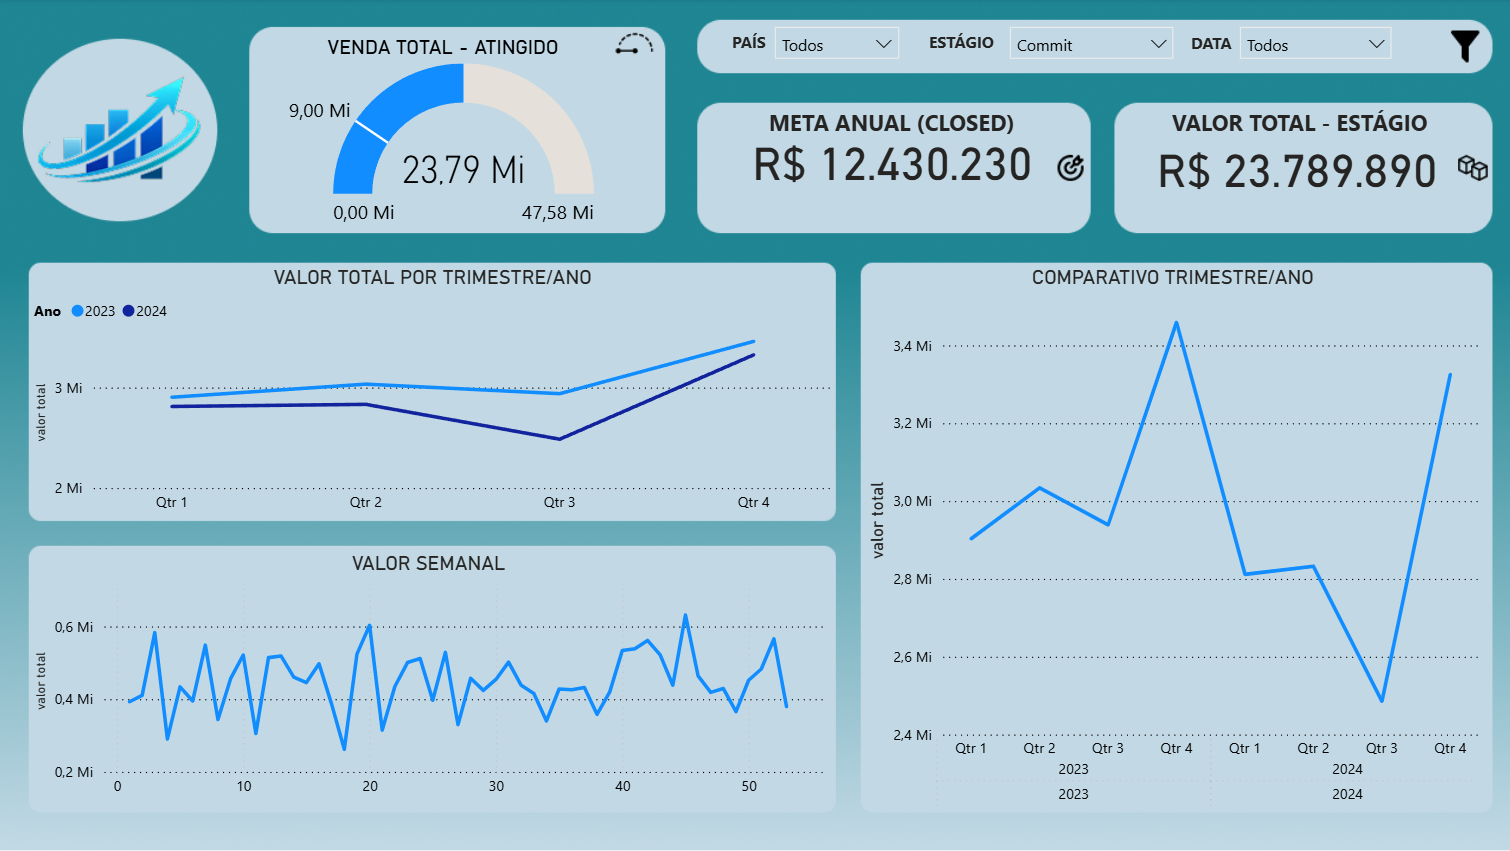

What the dashboard file says about the page in this screenshot:
{"tool":"powerbi","page":{"name":"Visão Comercial","canvas":[1280,720],"ordinal":0},"visuals":[{"type":"lineChart","title":"VALOR SEMANAL","fields":{"Category":["Calendario.Semana"],"Y":["OPORTUNIDADES.valor total"]},"box":[25.5,465.5,676.4,216.4],"z":0},{"type":"slicer","fields":{"Values":["Calendario.Date.Variation.Hierarquia de datas.Ano","Calendario.Date.Variation.Hierarquia de datas.Mês"]},"box":[1038.2,13.6,148.2,72.7],"z":1000},{"type":"lineChart","title":"COMPARATIVO TRIMESTRE/ANO","fields":{"Y":["OPORTUNIDADES.valor total"],"Category":["Calendario.Ano","Calendario.Date.Variation.Hierarquia de datas.Ano","Calendario.Date.Variation.Hierarquia de datas.Trimestre"]},"box":[729.1,224.5,524.5,468.2],"z":2000},{"type":"lineChart","title":"VALOR TOTAL POR TRIMESTRE/ANO","fields":{"Y":["OPORTUNIDADES.valor total"],"Series":["Calendario.Date.Variation.Hierarquia de datas.Ano"],"Category":["Calendario.Date.Variation.Hierarquia de datas.Trimestre"]},"box":[25.5,224.5,682.7,218.2],"z":3000},{"type":"card","fields":{"Values":["OPORTUNIDADES.valor total"]},"box":[911.8,81.8,368.2,118.2],"z":4000},{"type":"card","fields":{"Values":["Sum(METAS.META_ANUAL)"]},"box":[586.4,70.9,336.4,129.1],"z":5000},{"type":"slicer","fields":{"Values":["VENDEDORES.PAIS"]},"box":[645.5,13.6,124.5,54.5],"z":6000},{"type":"gauge","fields":{"Y":["OPORTUNIDADES.valor total"]},"box":[196,30,359,170],"z":7000},{"type":"slicer","fields":{"Values":["OPORTUNIDADES.ESTAGIO"]},"box":[843.6,13.6,158.2,68.2],"z":8000},{"type":"textbox","box":[614.5,21.8,50,38.2],"z":9000},{"type":"textbox","box":[780.9,21.8,76.4,30],"z":10000},{"type":"textbox","box":[1001.8,22.7,104.5,37.3],"z":11000},{"type":"textbox","box":[645.5,86.4,233.6,170],"z":12000},{"type":"textbox","box":[985.5,86.4,240.9,38.2],"z":13000}]}

Visuals, with their boxes in screenshot pixels (x1, y1, x2, y2), scaled from the page's 1280x720 canvas onto the 1510x851 screenshot:
"VALOR SEMANAL" lineChart: detection(30, 550, 828, 806)
slicer - Calendario.Date.Variation.Hierarquia de datas.Ano x Calendario.Date.Variation.Hierarquia de datas.Mês: detection(1225, 16, 1400, 102)
"COMPARATIVO TRIMESTRE/ANO" lineChart: detection(860, 265, 1479, 819)
"VALOR TOTAL POR TRIMESTRE/ANO" lineChart: detection(30, 265, 835, 523)
card - OPORTUNIDADES.valor total: detection(1076, 97, 1509, 236)
card - Sum(METAS.META_ANUAL): detection(692, 84, 1089, 236)
slicer - VENDEDORES.PAIS: detection(761, 16, 908, 80)
gauge - OPORTUNIDADES.valor total: detection(231, 35, 655, 236)
slicer - OPORTUNIDADES.ESTAGIO: detection(995, 16, 1182, 97)
textbox: detection(725, 26, 784, 71)
textbox: detection(921, 26, 1011, 61)
textbox: detection(1182, 27, 1305, 71)
textbox: detection(761, 102, 1037, 303)
textbox: detection(1163, 102, 1447, 147)
